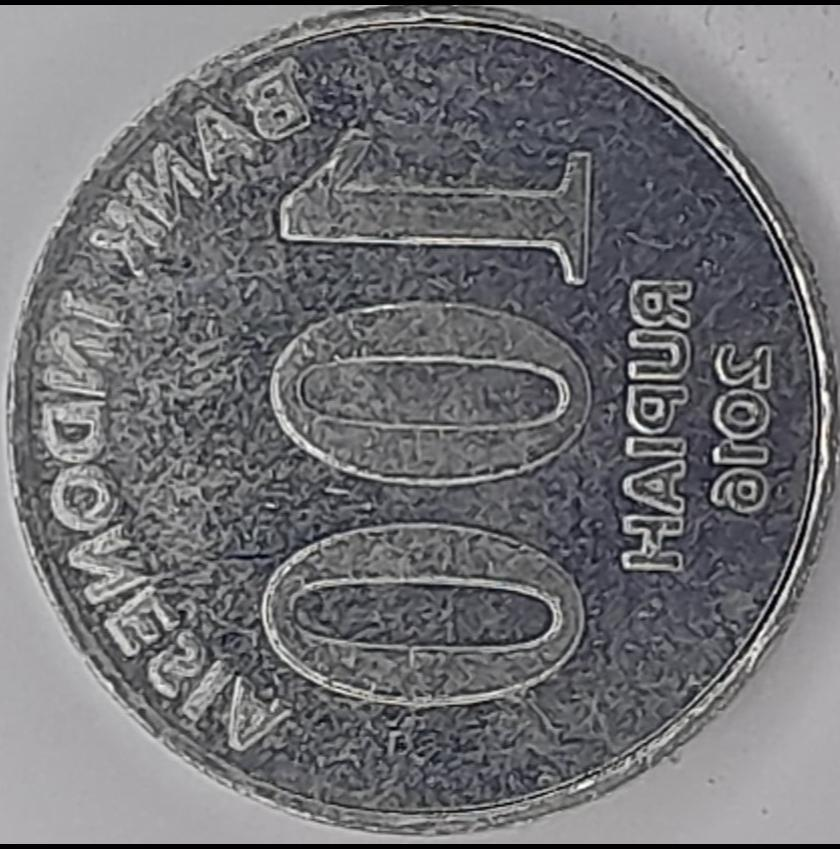coin_100_e2016: (0, 1, 839, 837)
